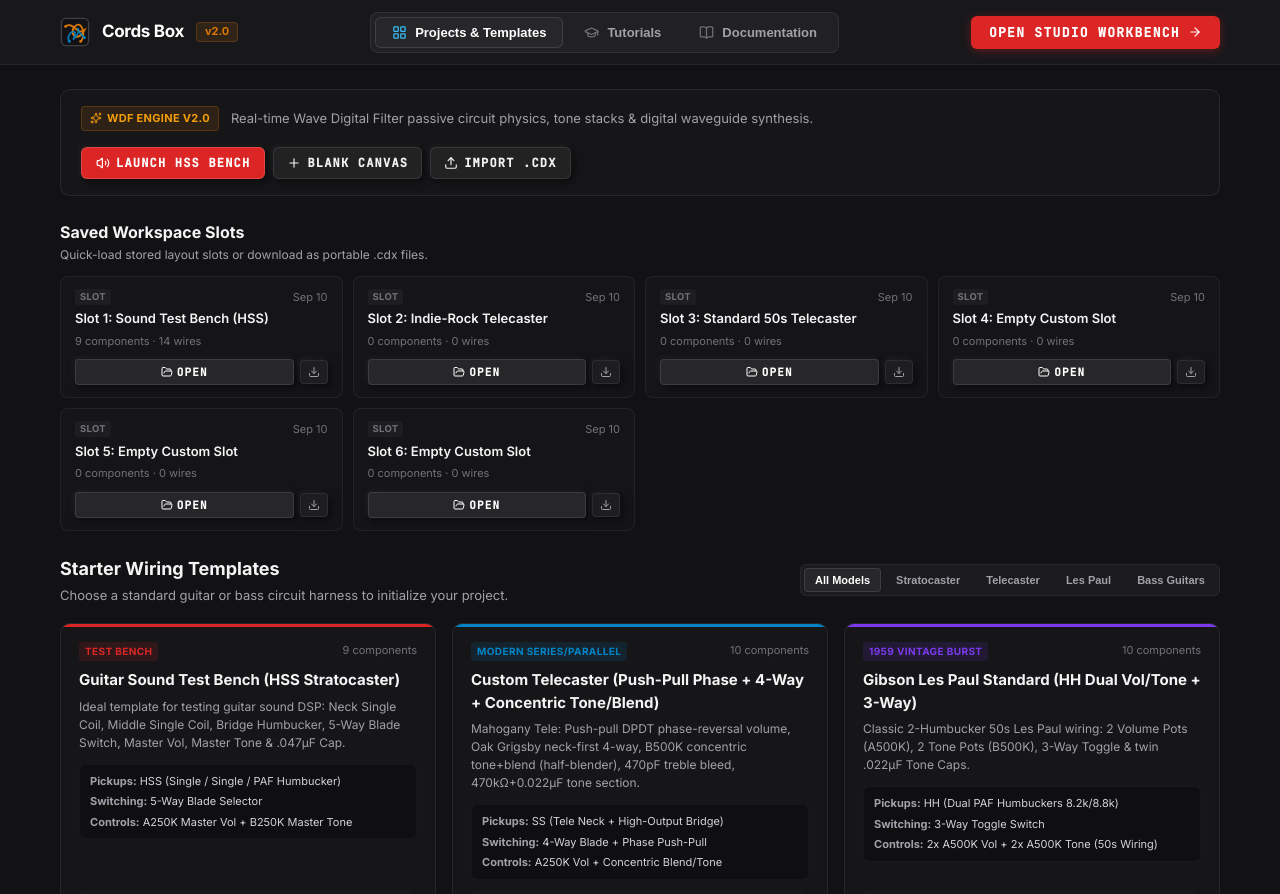
Scenario: HomePage Navbar and Layout › switches tabs between templates, tutorials, and documentation
Expected: the heading "Starter Wiring Templates" is shown, 60,558 -> 280,578
# Switch to Tutorials tab
Click the button "Tutorials" at (623, 32), box 567,16 -> 678,48
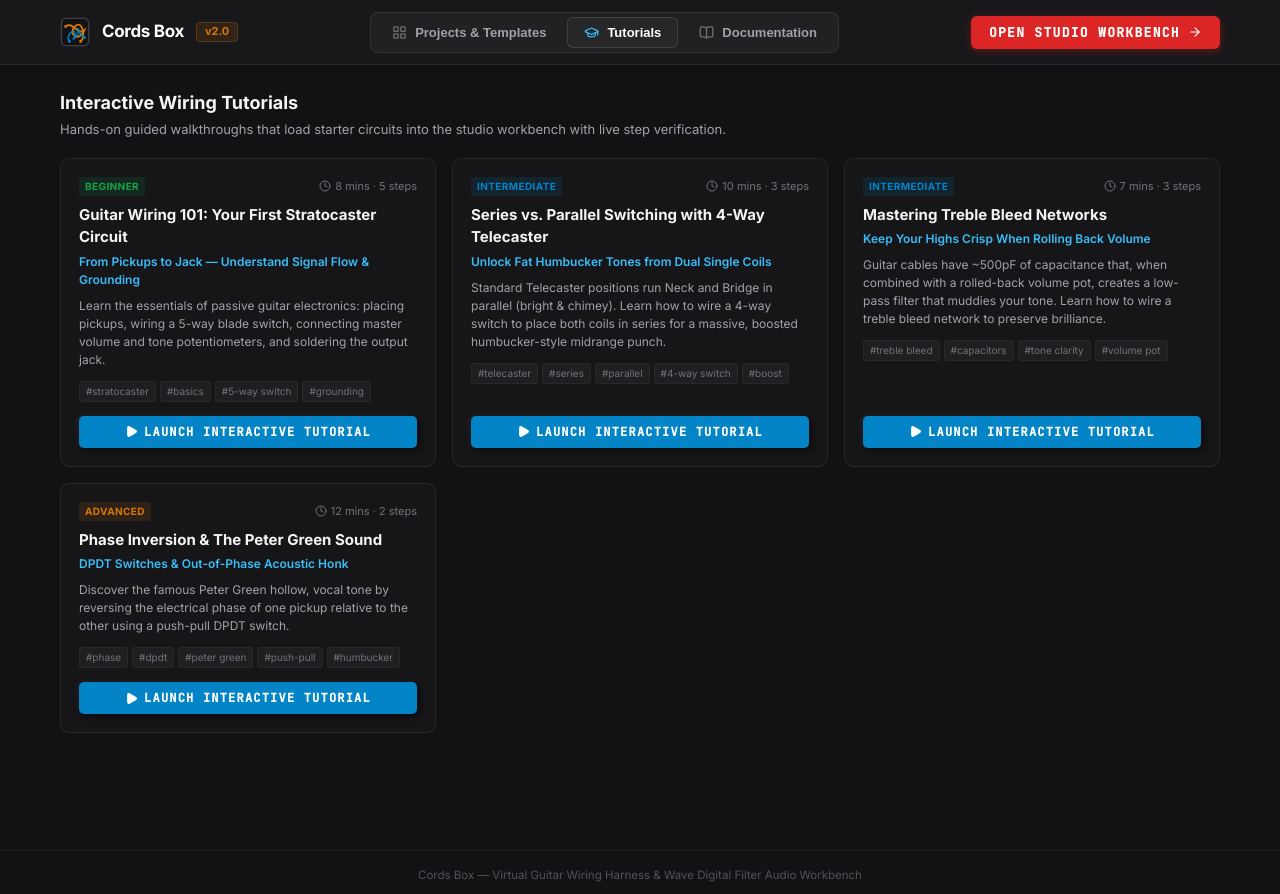
Result: the heading "Interactive Wiring Tutorials" is shown at 60,92 -> 298,113
Result: the heading "Starter Wiring Templates" is gone
# Switch to Documentation tab
Click the button "Documentation" at (758, 32), box 682,16 -> 834,48
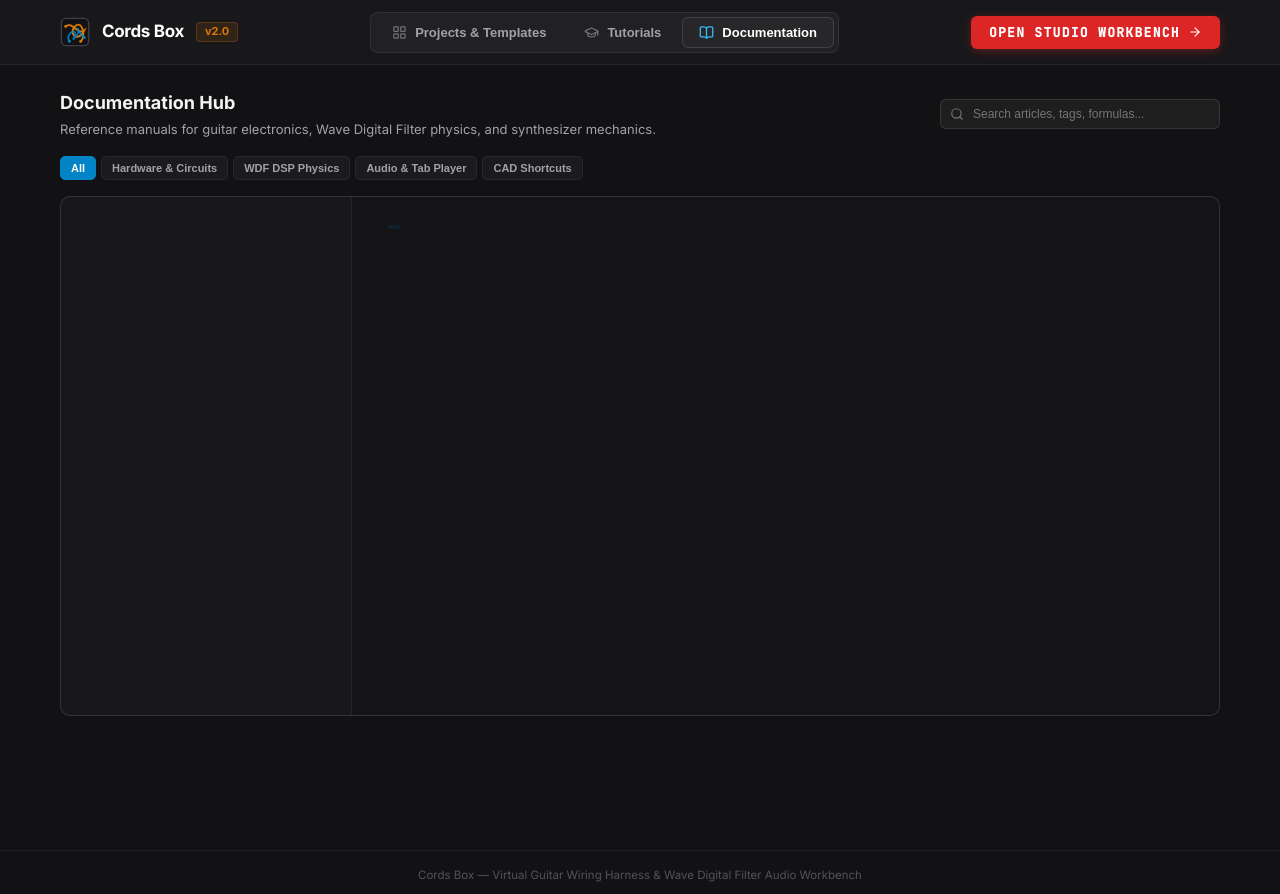
Result: the heading "Documentation Hub" is shown at 60,92 -> 235,113
# Switch back to Templates tab
Click the button "Projects & Templates" at (469, 32), box 375,16 -> 563,48
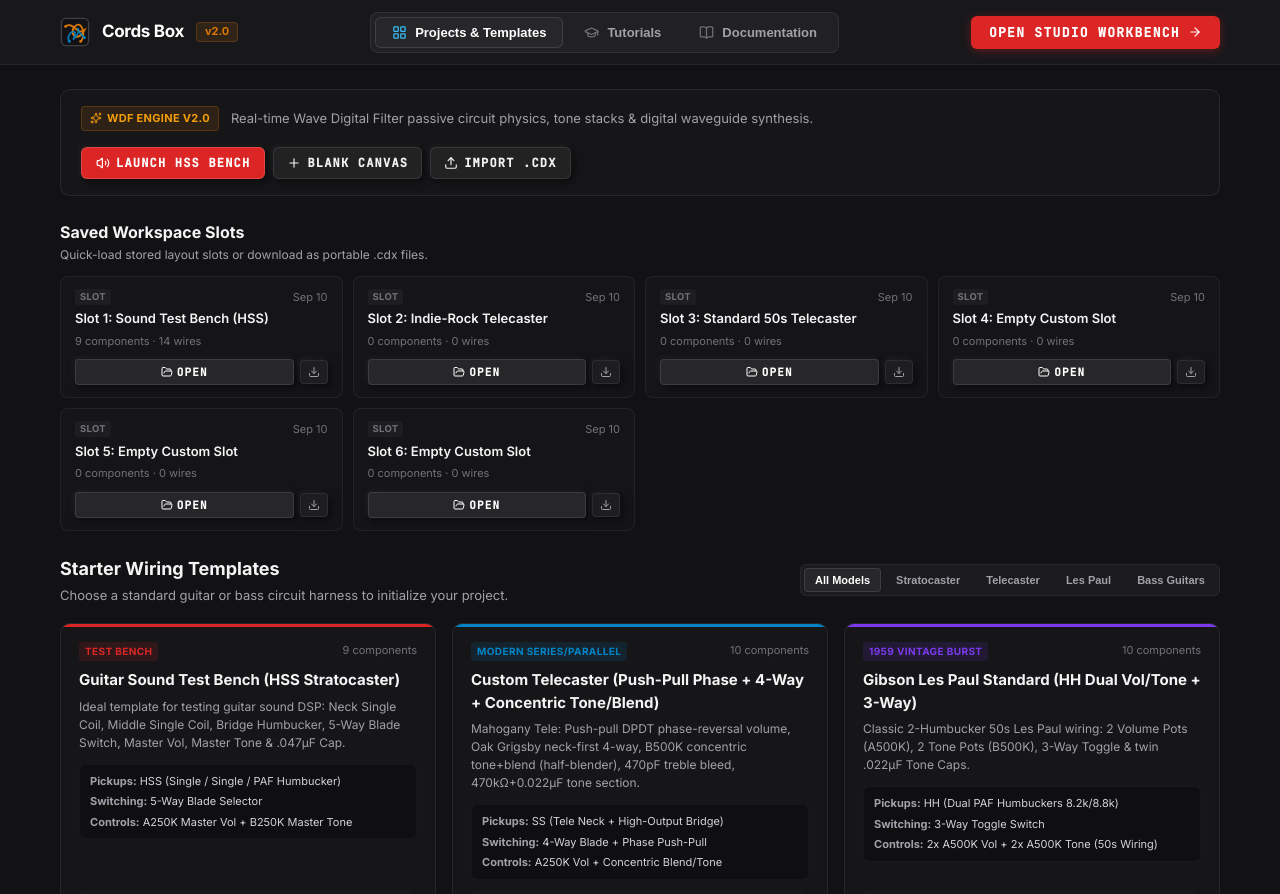
Result: the heading "Starter Wiring Templates" is shown at 60,558 -> 280,578
